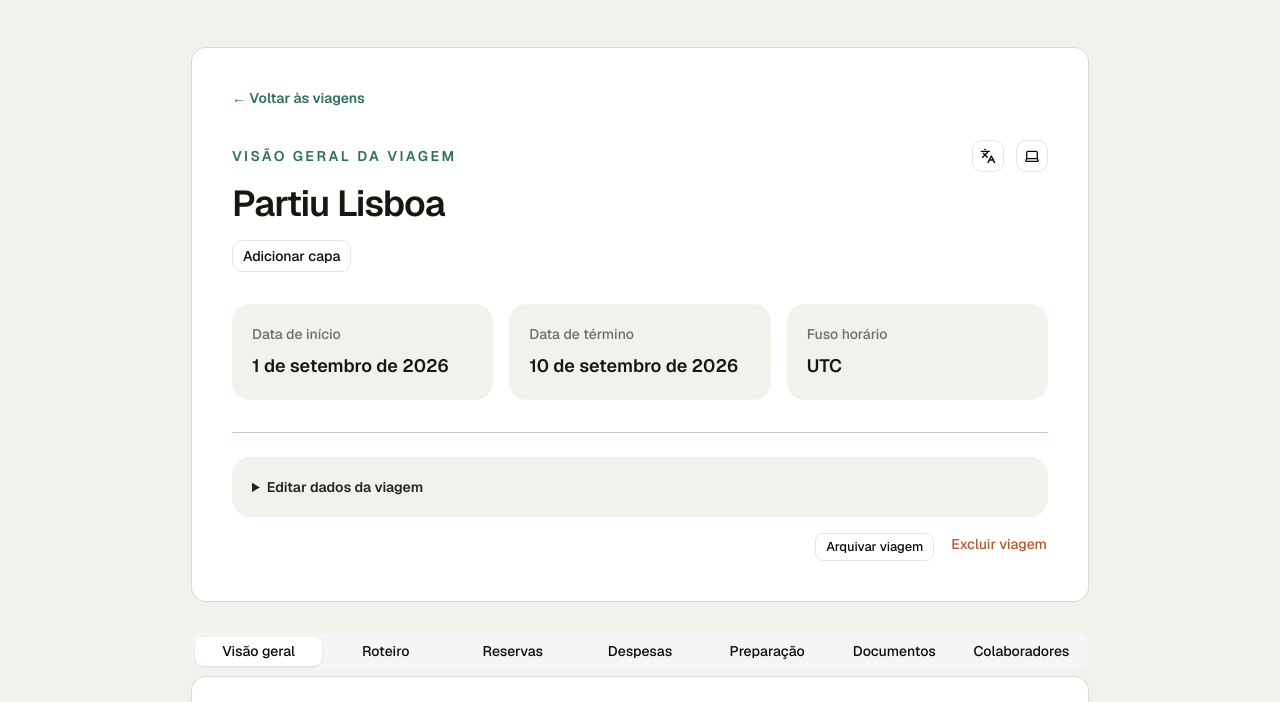
TripPage › shows edit and confirmed deletion controls to the creator
This screenshot has width=1280, height=702.
expect the heading "Editar dados da viagem" is shown: met, box [267, 478, 423, 496]
Click the button "Excluir viagem" at coordinates (999, 544), box [950, 533, 1048, 555]
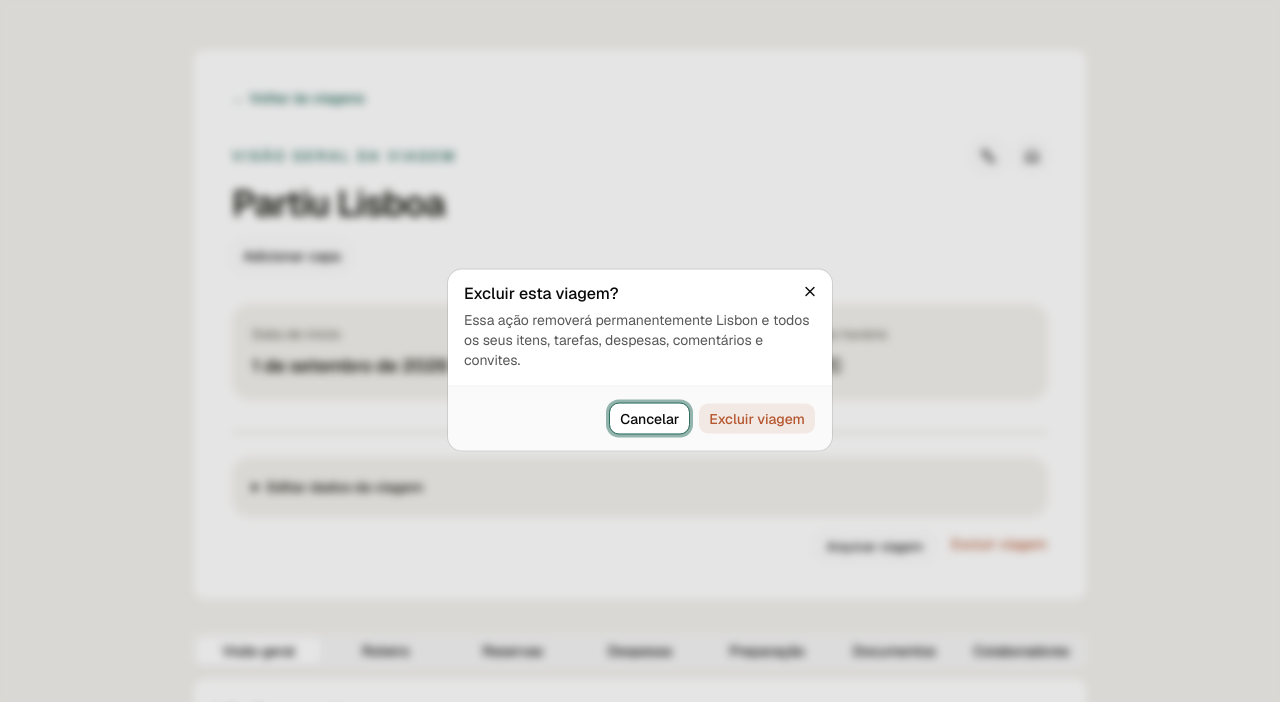
expect the heading "Excluir esta viagem?" is shown: met, box [464, 282, 619, 304]
